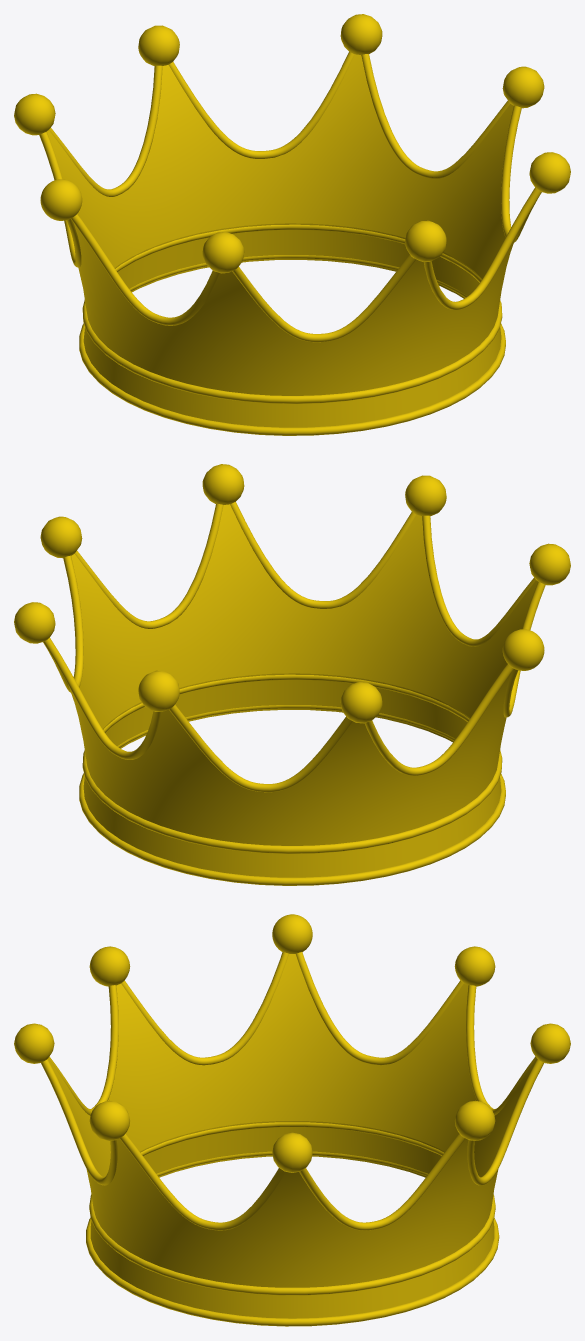
Rendered from crown.fbx.
3 renders of one model, top to bottom at view 1: azimuth 30°, elevation 25°; view 2: azimuth 150°, elevation 25°; view 3: azimuth 270°, elevation 25°, orthographic. The views are drawn at different scales.
Visible parts, largest first — view 1: Crown; view 2: Crown; view 3: Crown.
Part boxes in pixels (x1,y1,x2,y2): Crown: (14,14,570,435); Crown: (14,464,570,885); Crown: (14,914,570,1326).
Bounding box in the file's own units: 60.03 × 25.58 × 60.04.
